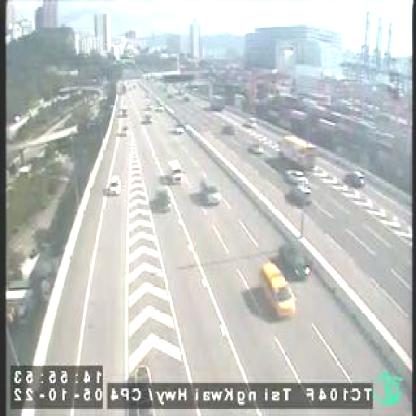Car: (262, 262, 298, 317), (282, 243, 313, 277), (201, 178, 222, 203), (155, 184, 173, 208), (344, 168, 364, 189), (286, 168, 309, 184), (170, 159, 185, 182), (107, 173, 122, 194), (296, 186, 312, 204), (251, 142, 264, 154), (176, 121, 184, 132)
Truck: (280, 135, 314, 170)
